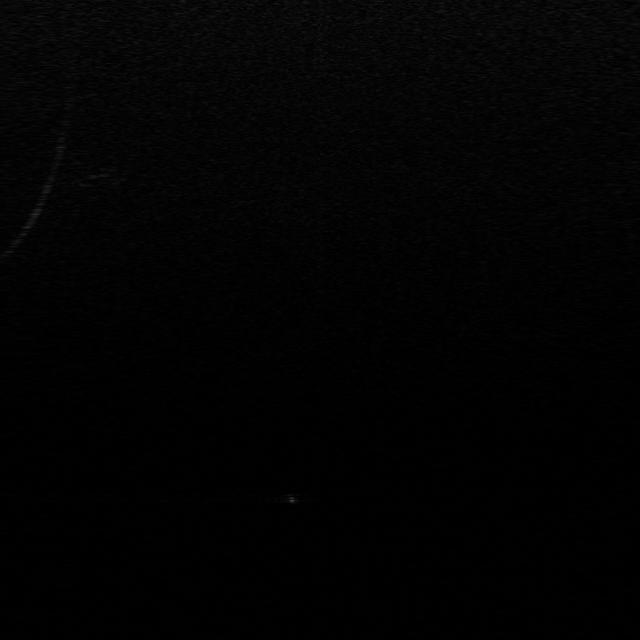ball: (280, 493, 306, 505)
